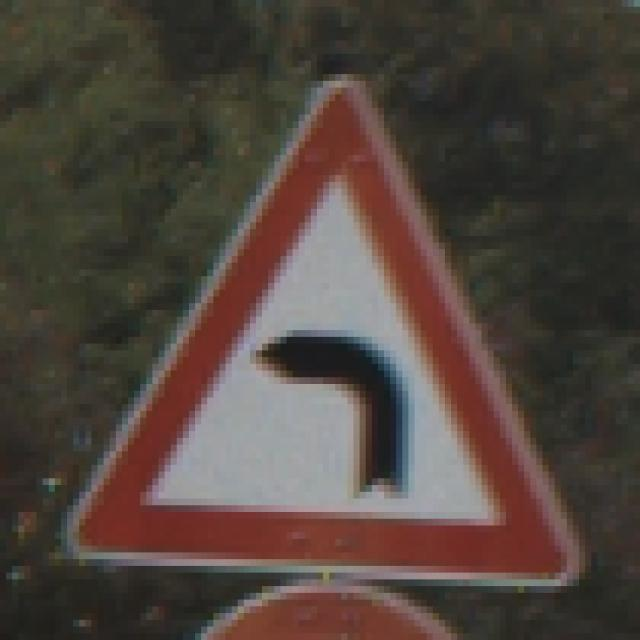left hand curve: (50, 58, 588, 606)
